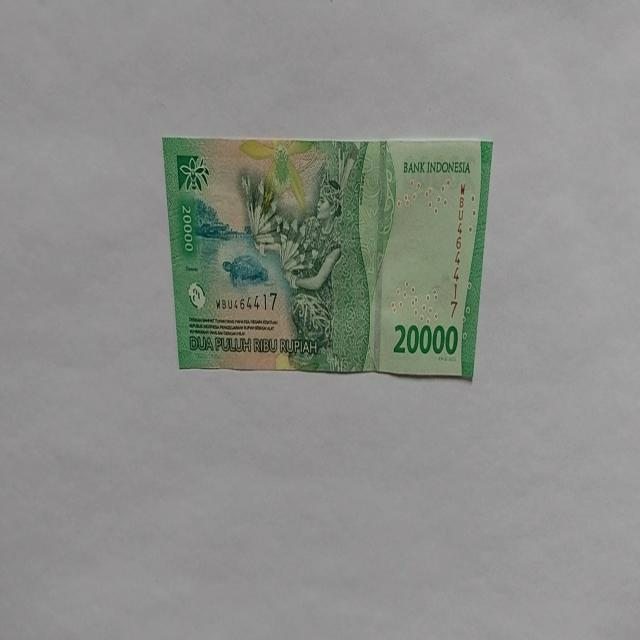dua puluh ribu rupiah: (162, 134, 494, 382)
